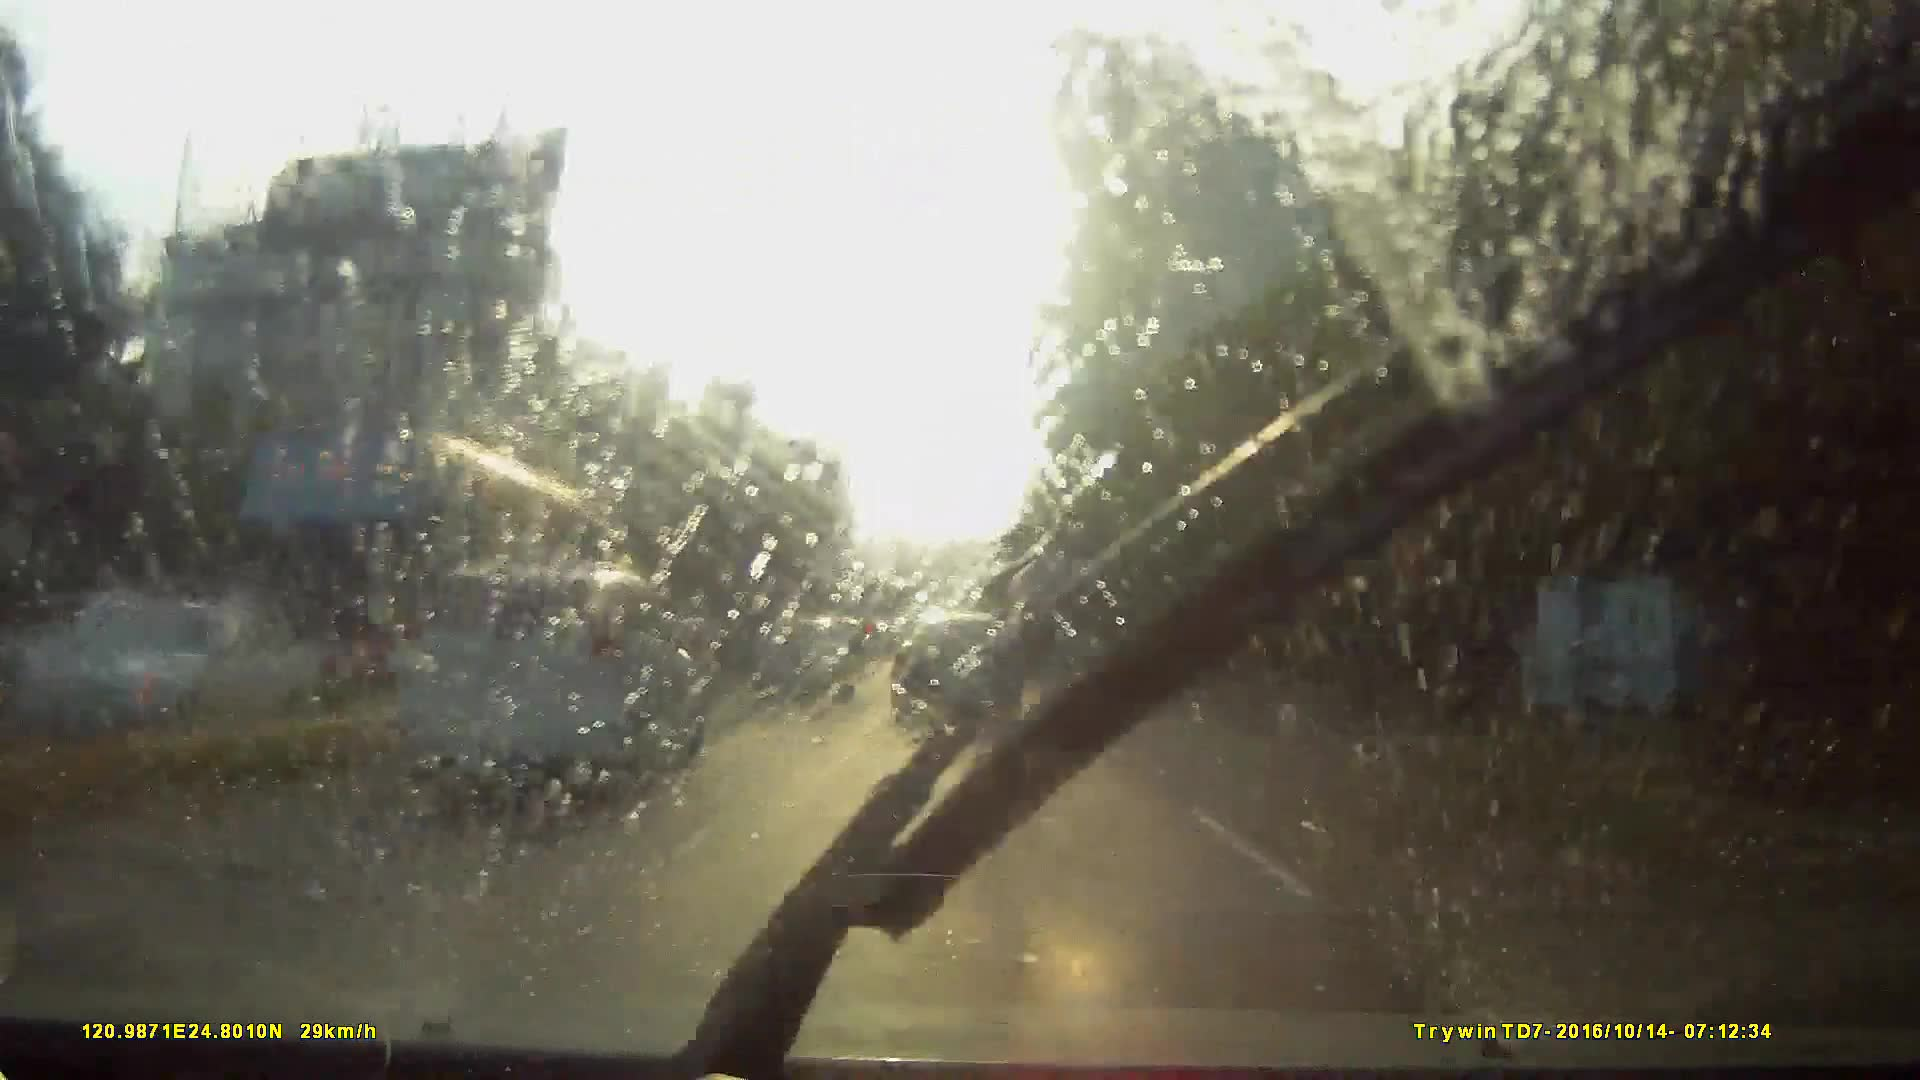vehicle: (171, 410, 636, 735), (251, 556, 684, 868), (404, 563, 708, 791), (891, 607, 1022, 735), (1004, 564, 1109, 690), (745, 625, 853, 712), (866, 638, 915, 687)
